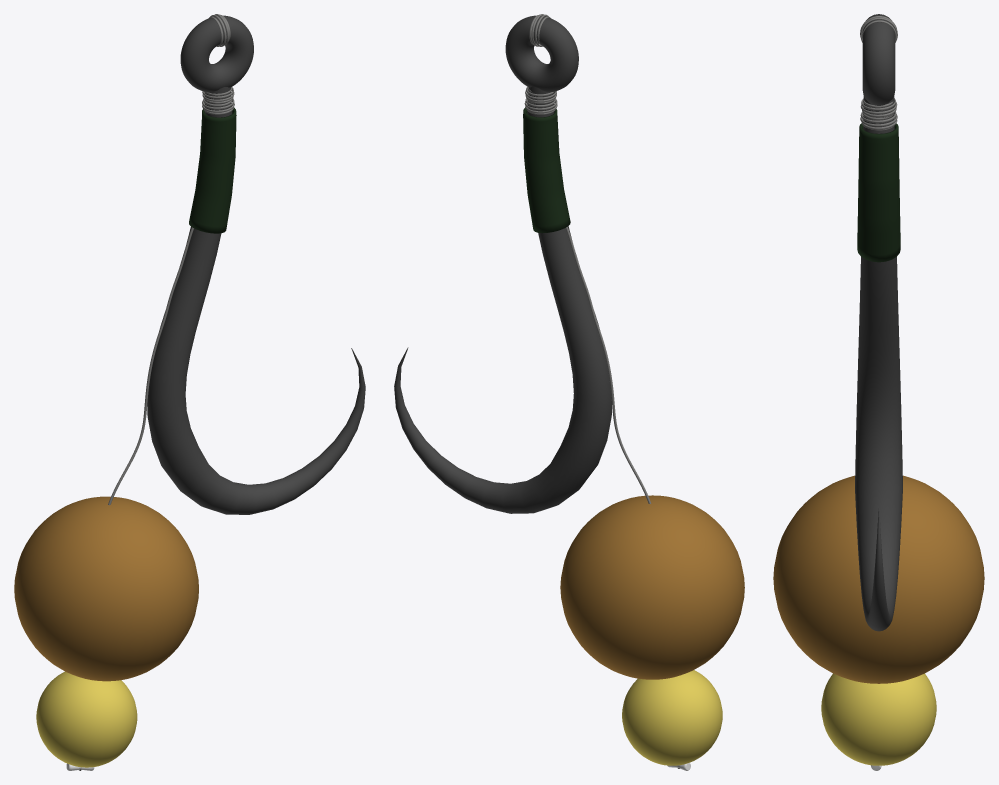
File: hook.fbx
3 renders of one model, left to right at view 1: azimuth 30°, elevation 25°; view 2: azimuth 150°, elevation 25°; view 3: azimuth 270°, elevation 25°, orthographic. The views are drawn at different scales.
Visible parts, largest first — view 1: Boillie, Hook, Pop-Up, Borracha, Linha; view 2: Boillie, Hook, Pop-Up, Borracha, Linha; view 3: Boillie, Hook, Pop-Up, Borracha, Linha.001, Linha.002.
Boxes of the visible parts, x1,y1,x2,y2 form: Boillie: (14,496,198,681); Hook: (147,15,365,514); Pop-Up: (36,671,137,767); Borracha: (189,107,236,233); Linha: (79,227,193,770); Boillie: (560,495,744,679); Hook: (394,15,611,513); Pop-Up: (622,670,722,765); Borracha: (523,107,570,233); Linha: (565,227,679,768); Boillie: (773,475,984,683); Hook: (855,14,902,631); Pop-Up: (821,673,936,765); Borracha: (857,123,900,262); Linha.001: (860,111,897,130); Linha.002: (860,98,897,117).
Bounding box in the file's own units: 112 × 229 × 53.08.
